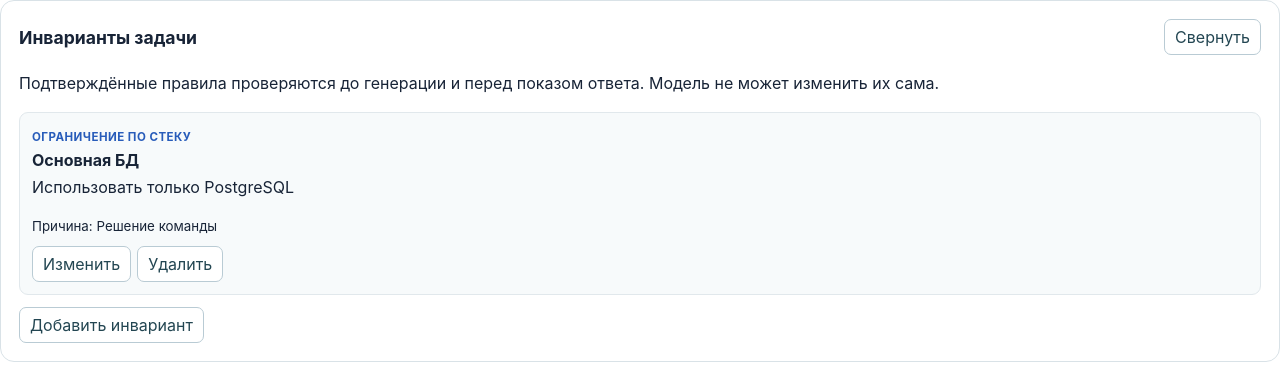
task invariants › requires confirmation before deleting a rule
Click the button "Удалить" at (180, 264), box top-left (137, 246), bottom-right (223, 282)
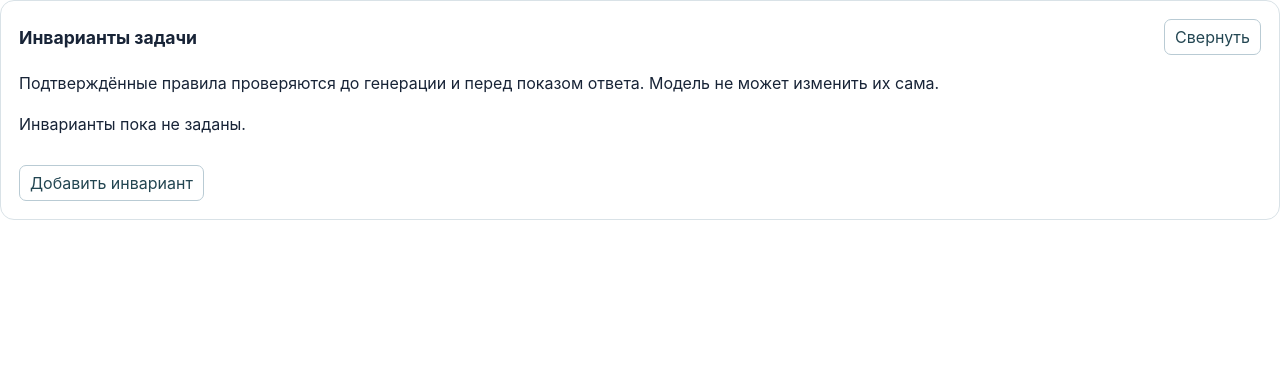
Result: the text "Инварианты пока не заданы." is shown at top-left (19, 114), bottom-right (246, 134)
